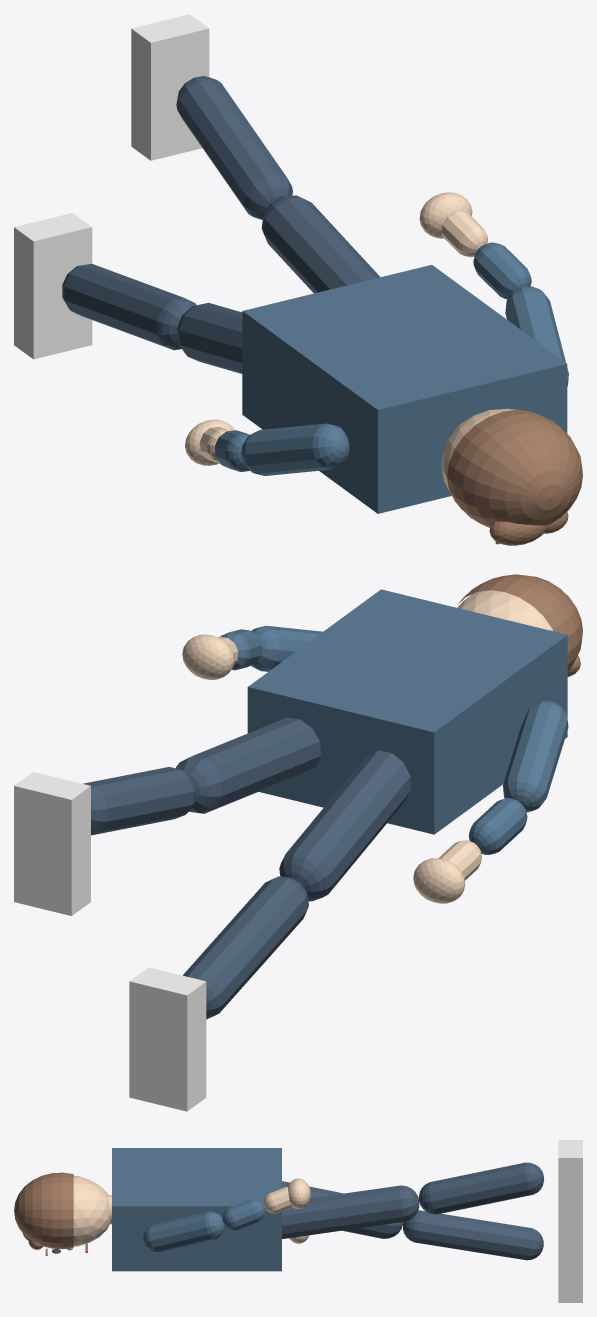
Rendered from CHAR_MALE_001_POSE_WALK_001.glb.
3 views of the same model, one above another, from view 1: azimuth 30°, elevation 25°; view 2: azimuth 150°, elevation 25°; view 3: azimuth 270°, elevation 25° (orthographic). The views are drawn at different scales.
Parts seen in each view (by area): view 1: CHAR_MALE_001_torso_jacket, CHAR_MALE_001_hair_cap, CHAR_MALE_001_shoe_L, CHAR_MALE_001_shoe_R, CHAR_MALE_001_shin_R, CHAR_MALE_001_shin_L, CHAR_MALE_001_thigh_R, CHAR_MALE_001_upper_arm_L, CHAR_MALE_001_thigh_L, CHAR_MALE_001_upper_arm_R, CHAR_MALE_001_forearm_R, CHAR_MALE_001_wrist_R (+5 smaller); view 2: CHAR_MALE_001_torso_jacket, CHAR_MALE_001_shoe_L, CHAR_MALE_001_shoe_R, CHAR_MALE_001_thigh_L, CHAR_MALE_001_thigh_R, CHAR_MALE_001_shin_L, CHAR_MALE_001_shin_R, CHAR_MALE_001_upper_arm_L, CHAR_MALE_001_hair_cap, CHAR_MALE_001_forearm_L, CHAR_MALE_001_head, CHAR_MALE_001_hand_R (+4 smaller); view 3: CHAR_MALE_001_torso_jacket, CHAR_MALE_001_thigh_R, CHAR_MALE_001_shin_L, CHAR_MALE_001_shin_R, CHAR_MALE_001_hair_cap, CHAR_MALE_001_shoe_R, CHAR_MALE_001_upper_arm_R, CHAR_MALE_001_head, CHAR_MALE_001_shoe_L, CHAR_MALE_001_forearm_R, CHAR_MALE_001_thigh_L, CHAR_MALE_001_hand_R (+1 smaller).
Part boxes in pixels (<box>): CHAR_MALE_001_torso_jacket: <box>242,265,567,513</box>; CHAR_MALE_001_hair_cap: <box>447,409,582,527</box>; CHAR_MALE_001_shoe_L: <box>14,213,92,359</box>; CHAR_MALE_001_shoe_R: <box>131,14,209,160</box>; CHAR_MALE_001_shin_R: <box>176,76,292,219</box>; CHAR_MALE_001_shin_L: <box>62,263,196,350</box>; CHAR_MALE_001_thigh_R: <box>261,195,380,293</box>; CHAR_MALE_001_upper_arm_L: <box>241,423,349,475</box>; CHAR_MALE_001_thigh_L: <box>176,302,242,373</box>; CHAR_MALE_001_upper_arm_R: <box>505,286,568,386</box>; CHAR_MALE_001_forearm_R: <box>473,242,531,299</box>; CHAR_MALE_001_wrist_R: <box>441,210,487,257</box>; CHAR_MALE_001_torso_jacket: <box>247,589,567,834</box>; CHAR_MALE_001_shoe_L: <box>129,967,206,1111</box>; CHAR_MALE_001_shoe_R: <box>14,772,90,915</box>; CHAR_MALE_001_thigh_L: <box>279,750,410,901</box>; CHAR_MALE_001_thigh_R: <box>176,717,321,813</box>; CHAR_MALE_001_shin_L: <box>183,876,308,1019</box>; CHAR_MALE_001_shin_R: <box>83,767,196,835</box>; CHAR_MALE_001_upper_arm_L: <box>503,700,568,812</box>; CHAR_MALE_001_hair_cap: <box>457,574,582,671</box>; CHAR_MALE_001_forearm_L: <box>468,798,527,854</box>; CHAR_MALE_001_head: <box>457,590,552,630</box>; CHAR_MALE_001_hand_R: <box>182,634,234,679</box>; CHAR_MALE_001_torso_jacket: <box>112,1148,281,1271</box>; CHAR_MALE_001_thigh_R: <box>282,1185,419,1238</box>; CHAR_MALE_001_shin_L: <box>403,1210,543,1260</box>; CHAR_MALE_001_shin_R: <box>418,1162,544,1214</box>; CHAR_MALE_001_hair_cap: <box>14,1172,73,1249</box>; CHAR_MALE_001_shoe_R: <box>558,1140,582,1231</box>; CHAR_MALE_001_upper_arm_R: <box>143,1211,224,1252</box>; CHAR_MALE_001_head: <box>73,1175,110,1246</box>; CHAR_MALE_001_shoe_L: <box>558,1232,582,1302</box>; CHAR_MALE_001_forearm_R: <box>222,1199,265,1230</box>; CHAR_MALE_001_thigh_L: <box>282,1181,403,1238</box>; CHAR_MALE_001_hand_R: <box>287,1178,310,1208</box>.
Size of the model in its own units: 0.6816 by 0.6171 by 1.76.
